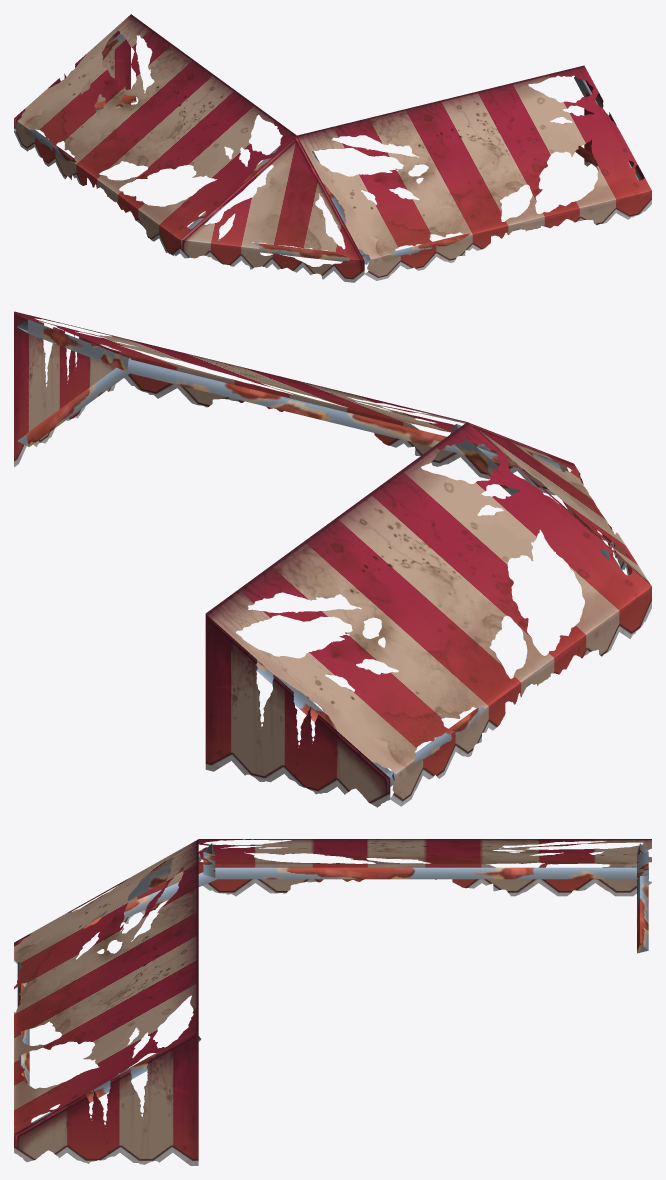
Rendered from awning02_corner.fbx.
3 renders of one model, top to bottom at view 1: azimuth 30°, elevation 25°; view 2: azimuth 150°, elevation 25°; view 3: azimuth 270°, elevation 25°, orthographic. The views are drawn at different scales.
Visible parts, largest first — view 1: awning02_corner; view 2: awning02_corner; view 3: awning02_corner.
Boxes of the visible parts, bbox=[...] form: awning02_corner: bbox=[14, 14, 651, 282]; awning02_corner: bbox=[14, 311, 651, 807]; awning02_corner: bbox=[14, 839, 651, 1165].
Size of the model in its own units: 449 by 105 by 449.
